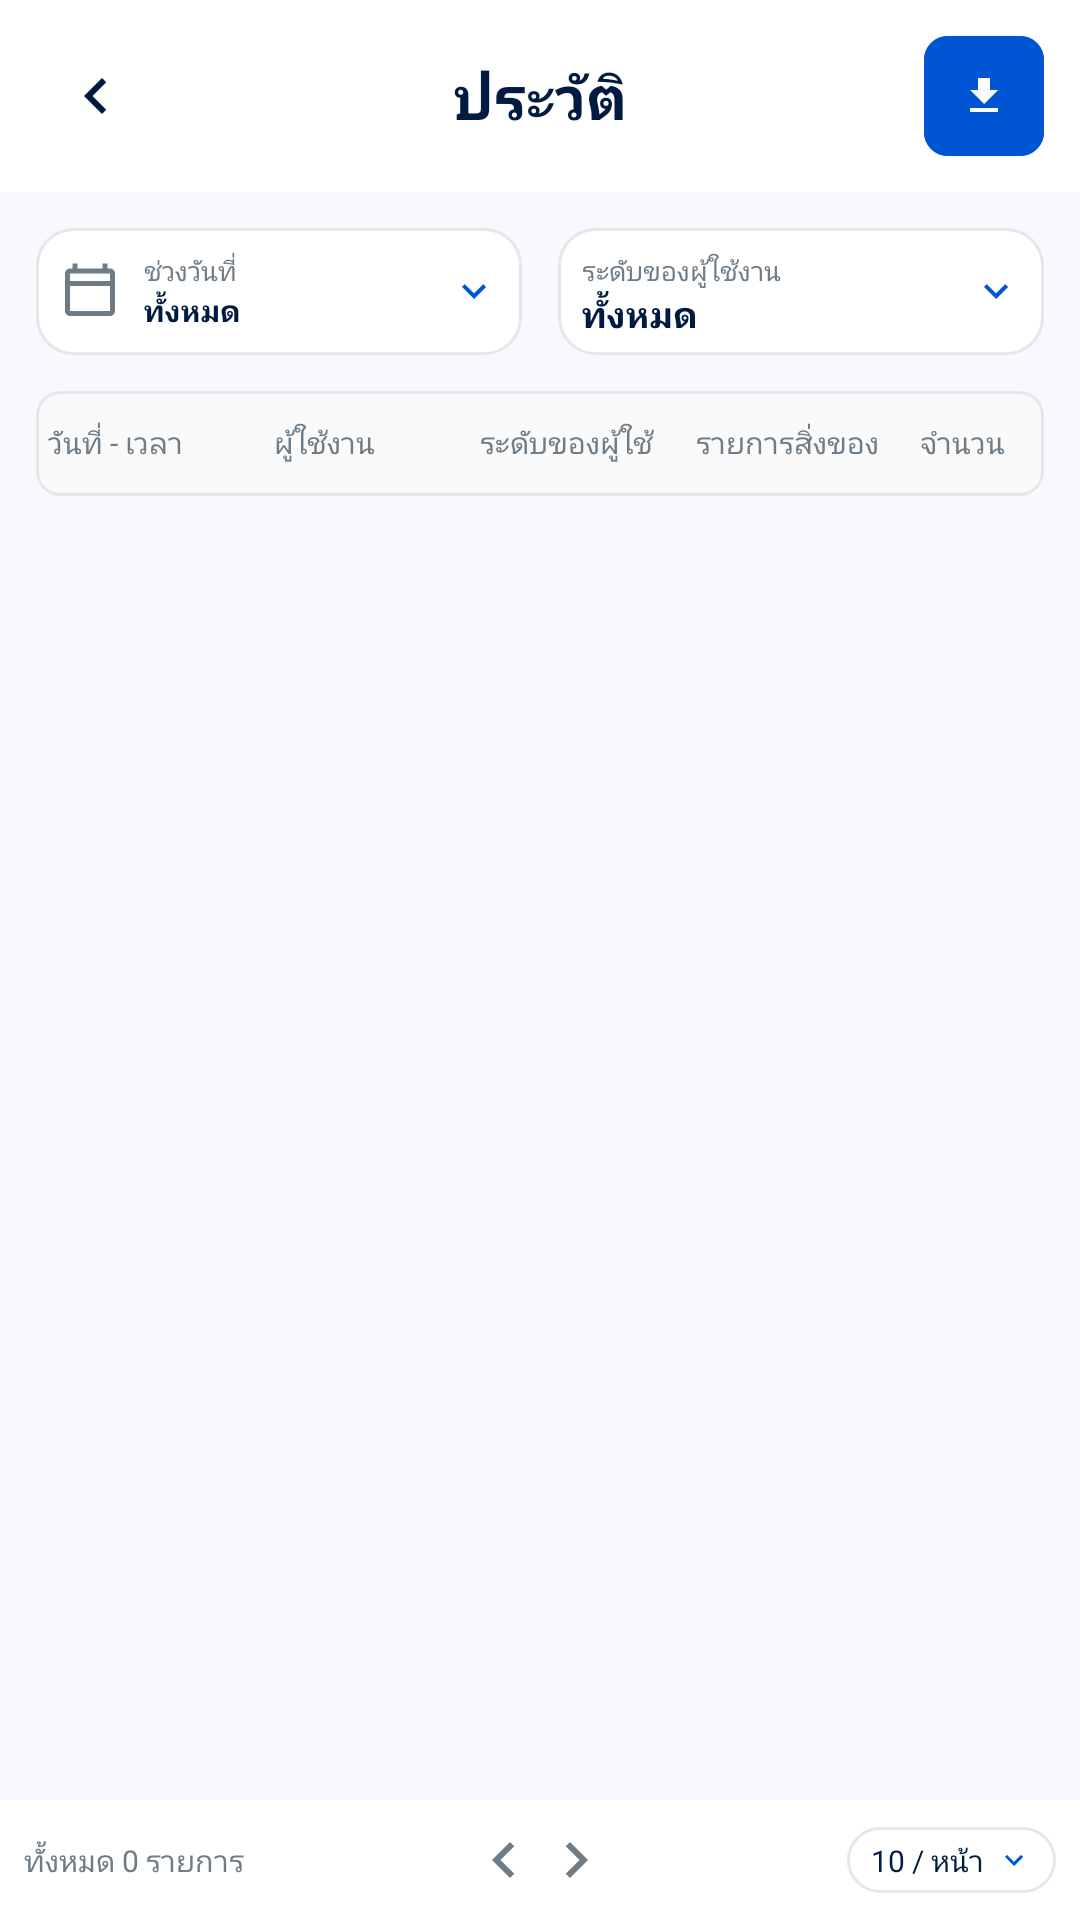

Icons on this 1080*1920 Android screen, each with its box as Rect(x1, y1, x2, y2):
Back: Rect(84, 78, 106, 114)
calendar today: Rect(65, 263, 115, 316)
chevron left: Rect(492, 1842, 514, 1878)
chevron right: Rect(566, 1842, 588, 1878)
file download: Rect(924, 36, 1044, 156)
